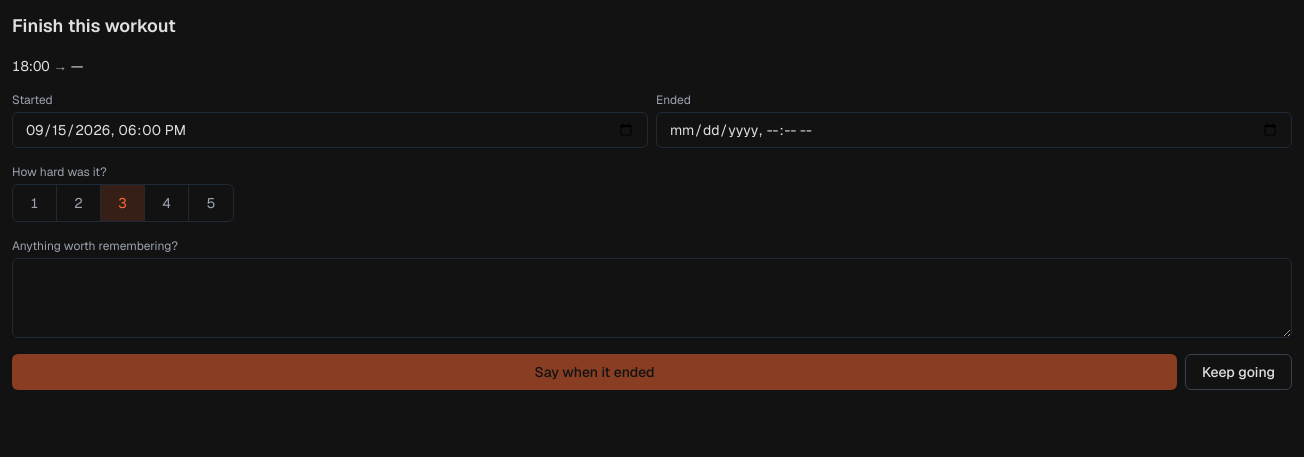
it: a session written up afterwards › refuses a ten-hour span on the screen, not as a 400 afterwards
Type "2026-09-16T04:30" into the field named "when the workout ended".
click(974, 130); type("2026-09-16T04:30")  # box [656,112,1292,148]
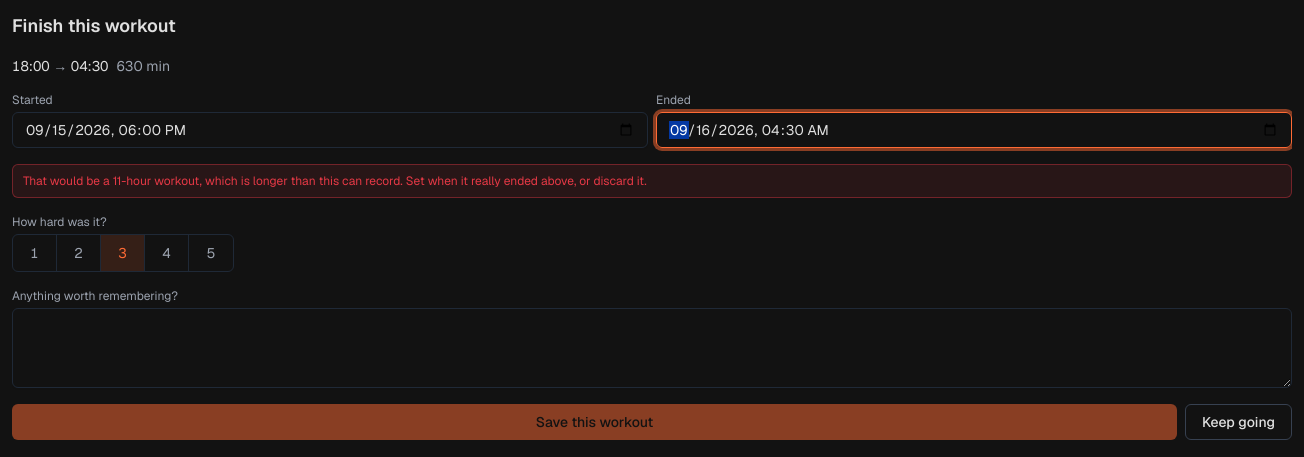
Expected: the button "Save this workout" is disabled, [12,404,1177,440]
Expected: the text "longer than this can record" is shown, [121,173,647,189]
